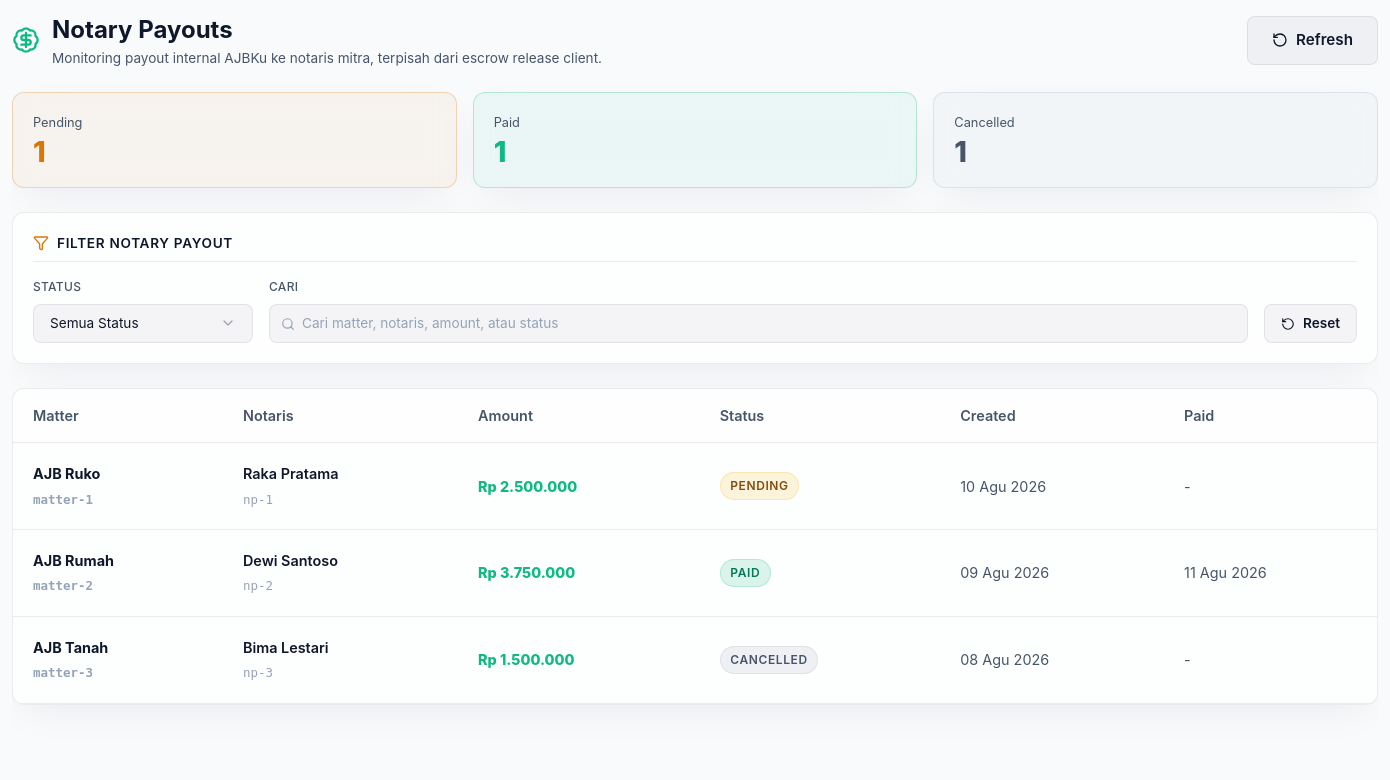
Scenario: NotaryPayouts › renders filtered-empty state safely
The width and height of the screenshot is (1390, 780).
Expected: the text "AJB Ruko" is shown, [33,465,100,482]
Type "not-found" into the field with placeholder "Cari matter, notaris, amount, atau status" at {"x": 758, "y": 324}, box [269,304,1248,343]
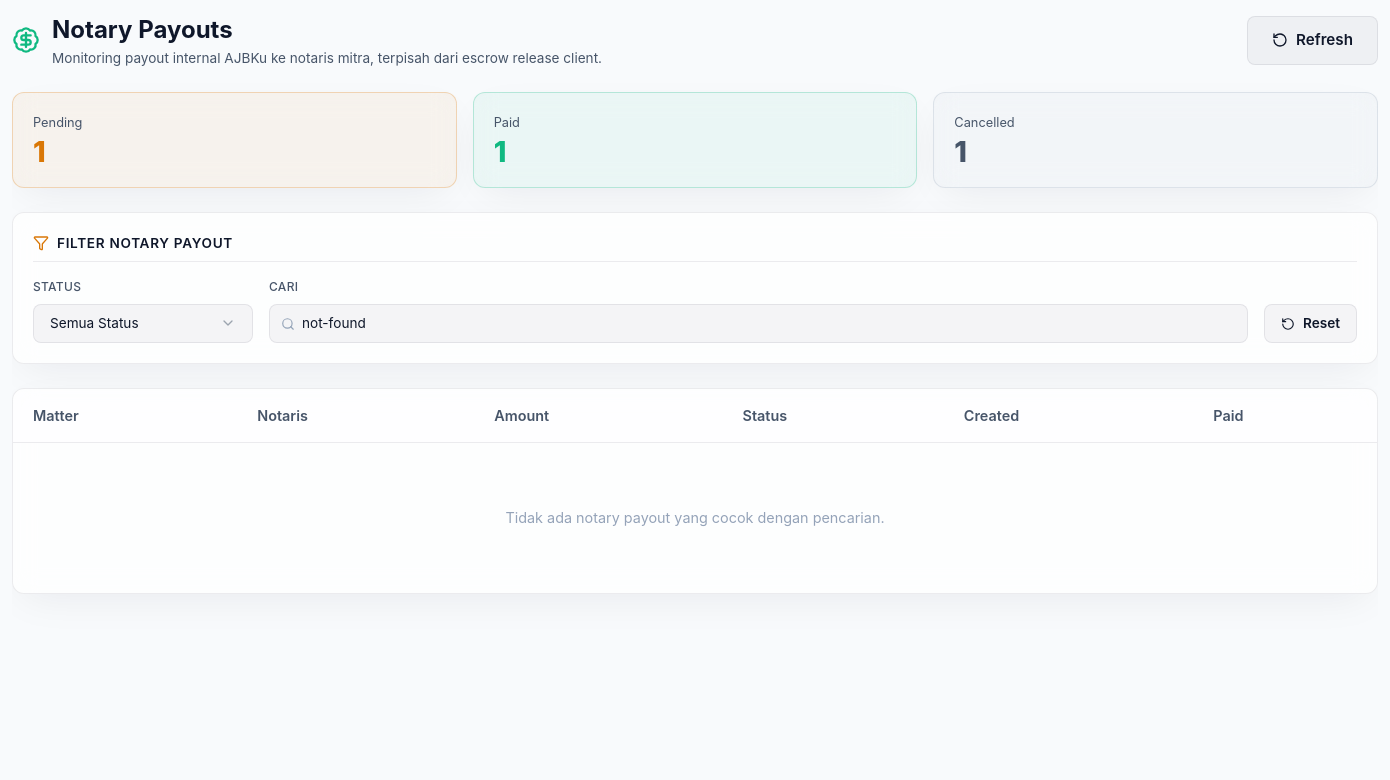
Now the text "Tidak ada notary payout yang cocok dengan pencarian." is shown, box [13,443,1377,593]
